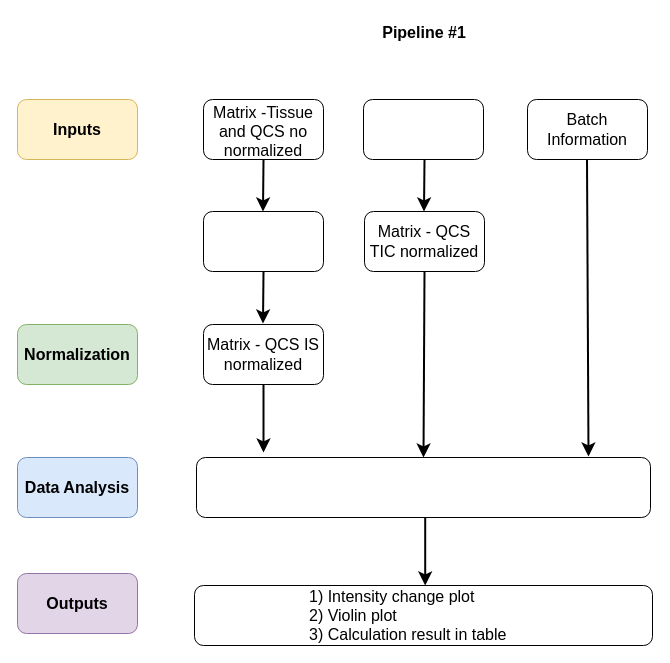
This 670x663 diagram has some shape labels left out. The shapes that lost their labels are listed below. From the top down, each one's centre as x and y in pixels, then its label:
pixel 423 129: Matrix -Tissue and QCS TIC normalized
pixel 263 241: Matrix - QCS no normalized
pixel 423 487: Intrabatch and Interbatch variations of QCS
